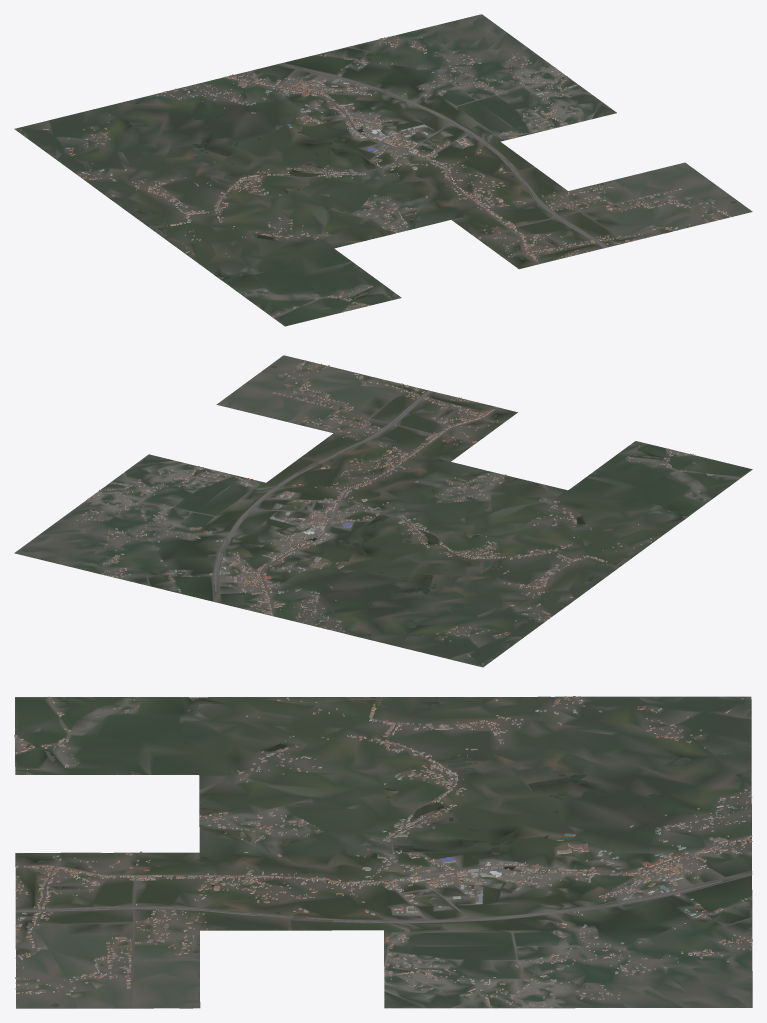
The picture shows the model from 3 angles, top to bottom: view 1: azimuth 30°, elevation 25°; view 2: azimuth 150°, elevation 25°; view 3: azimuth 270°, elevation 25°; orthographic projection. The views are drawn at different scales.
Parts seen in each view (by area): view 1: ground, buildings, roads, water; view 2: ground, buildings, roads, water; view 3: ground, buildings, roads, water.
Boxes of the visible parts, x1=… form: ground: x1=14, y1=14, x2=752, y2=326; buildings: x1=20, y1=35, x2=730, y2=317; roads: x1=147, y1=63, x2=710, y2=264; water: x1=75, y1=52, x2=736, y2=301; ground: x1=14, y1=355, x2=752, y2=667; buildings: x1=75, y1=360, x2=739, y2=664; roads: x1=212, y1=374, x2=617, y2=616; water: x1=79, y1=365, x2=687, y2=645; ground: x1=15, y1=696, x2=752, y2=1008; buildings: x1=14, y1=696, x2=752, y2=1008; roads: x1=15, y1=697, x2=752, y2=1008; water: x1=16, y1=697, x2=741, y2=1007.
Size of the model in its own units: 5620 by 30.56 by 5626.
